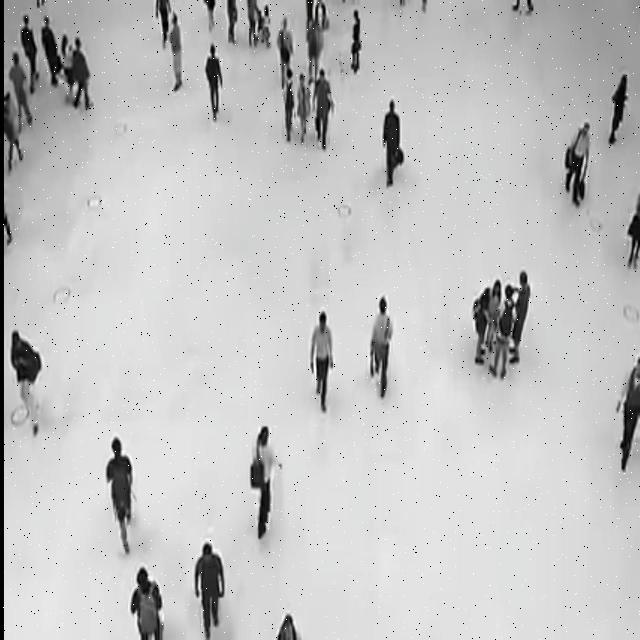humans: (246, 424, 283, 547), (9, 320, 43, 440), (105, 436, 136, 557), (192, 538, 227, 640), (562, 115, 594, 215), (615, 351, 640, 476), (308, 305, 334, 424), (377, 93, 406, 190), (128, 562, 163, 640), (369, 293, 393, 400), (511, 268, 535, 373), (465, 283, 493, 372), (491, 284, 515, 386), (604, 68, 629, 151), (203, 40, 224, 124), (4, 90, 24, 176), (11, 50, 33, 124), (39, 16, 60, 93), (314, 68, 333, 150), (167, 9, 183, 97), (21, 12, 38, 93), (73, 36, 91, 111), (485, 274, 503, 346), (276, 16, 293, 89), (281, 66, 296, 144), (296, 72, 311, 148), (349, 8, 363, 76), (62, 31, 73, 100), (260, 5, 272, 44)
